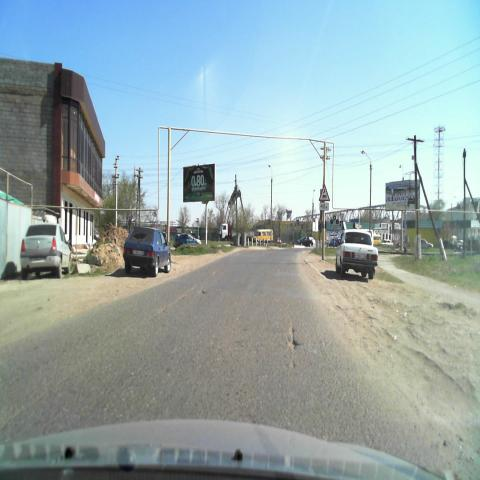1_2: (319, 185, 329, 201)
